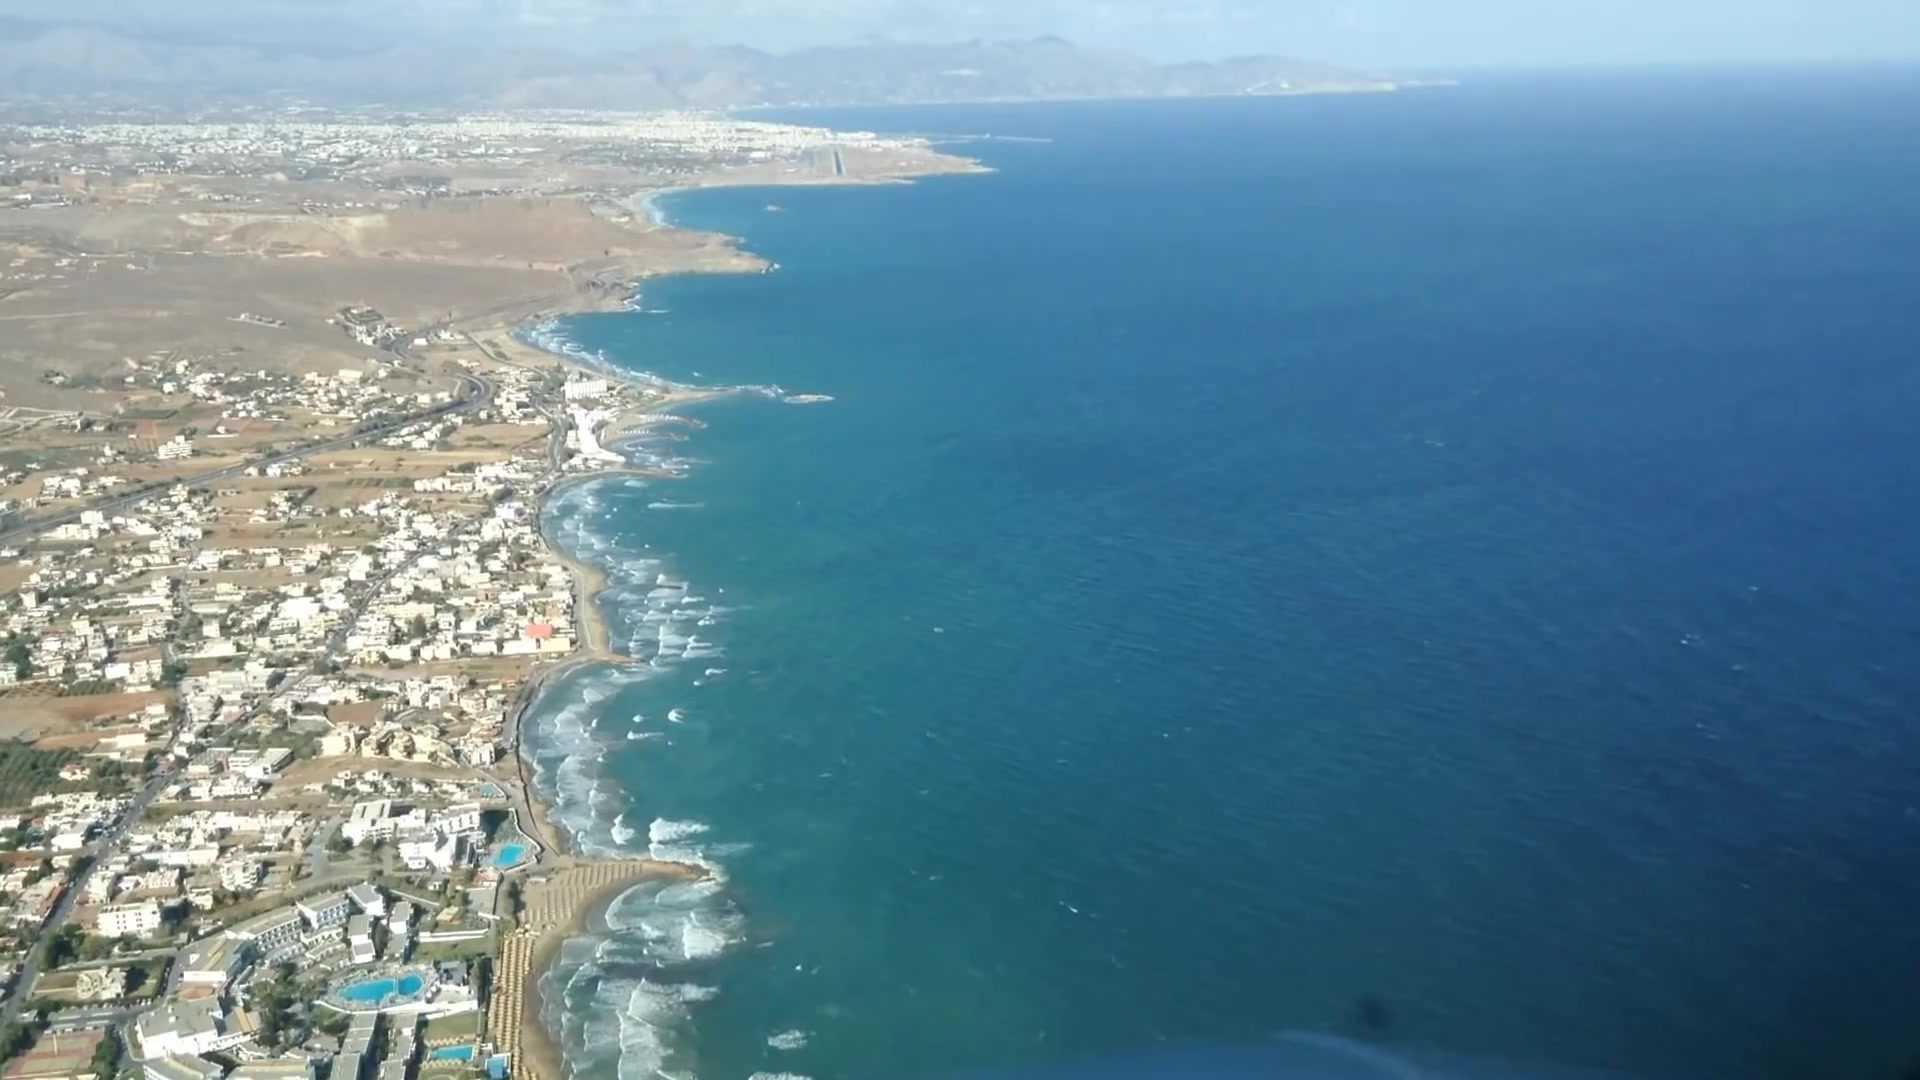runway: (828, 148, 848, 177)
